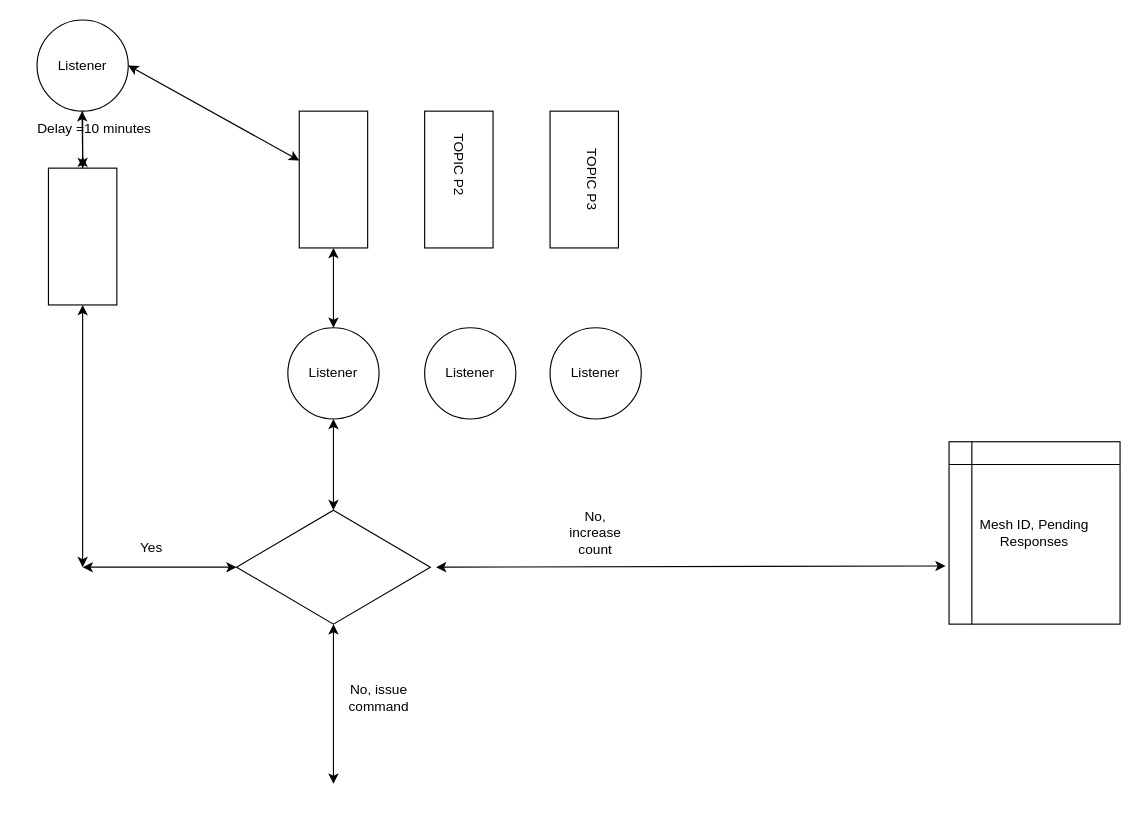
Some shapes in this 1140 by 814 pixel diagram are drawn without their labels. The shapes that lost their labels are listed below. From the top down, each one's centre as x and y in pixels, then its label:
At (x=333, y=179): "TOPIC P1".
At (x=82, y=236): "Retry Topic".
At (x=332, y=566): "Pending Responses reached threhold for mesh + priority ?".
